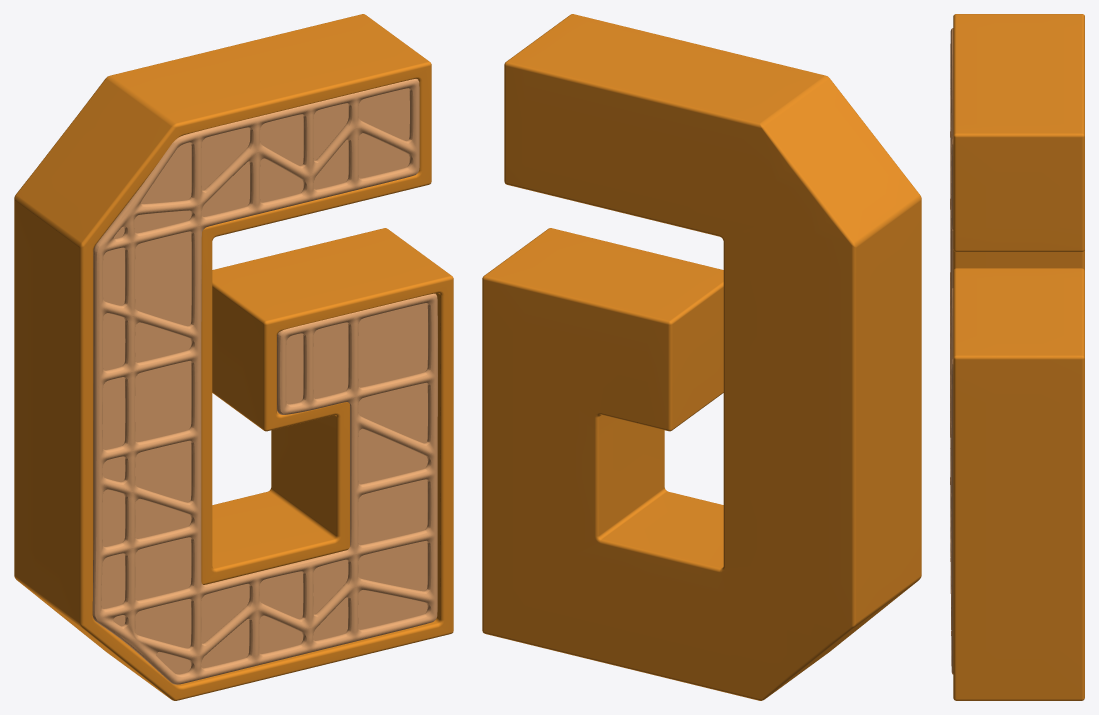
3 views of the same model, side by side, from view 1: azimuth 30°, elevation 25°; view 2: azimuth 150°, elevation 25°; view 3: azimuth 270°, elevation 25° (orthographic). The views are drawn at different scales.
Visible parts, largest first — view 1: Text.008, Plane.007, Plane.031; view 2: Text.008; view 3: Text.008, Plane.031.
Part boxes in pixels (<box>): Text.008: <box>14,14,453,700</box>; Plane.007: <box>101,88,427,674</box>; Plane.031: <box>92,79,437,684</box>; Text.008: <box>482,14,921,700</box>; Text.008: <box>953,14,1084,700</box>; Plane.031: <box>950,28,953,674</box>.
Bounding box in the file's own units: 2.12 × 3.13 × 0.6877.
